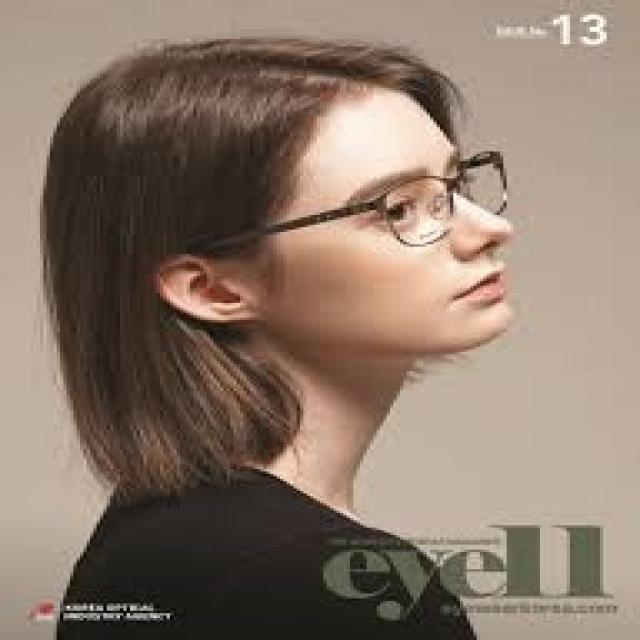Glasses: (167, 142, 520, 264)
